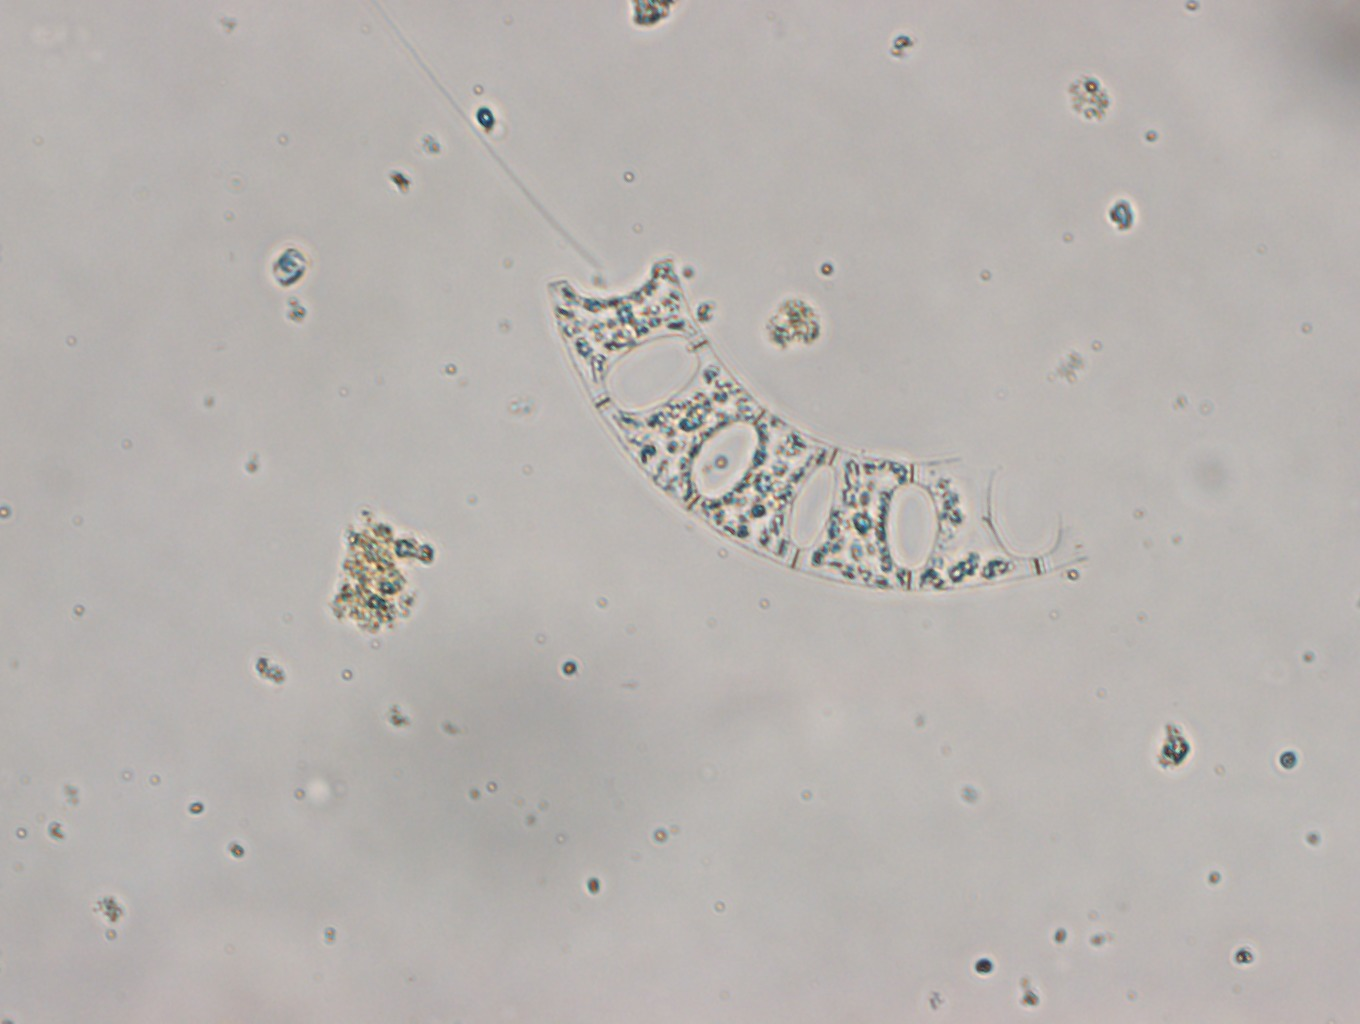eucampia: (545, 259, 1089, 593)
